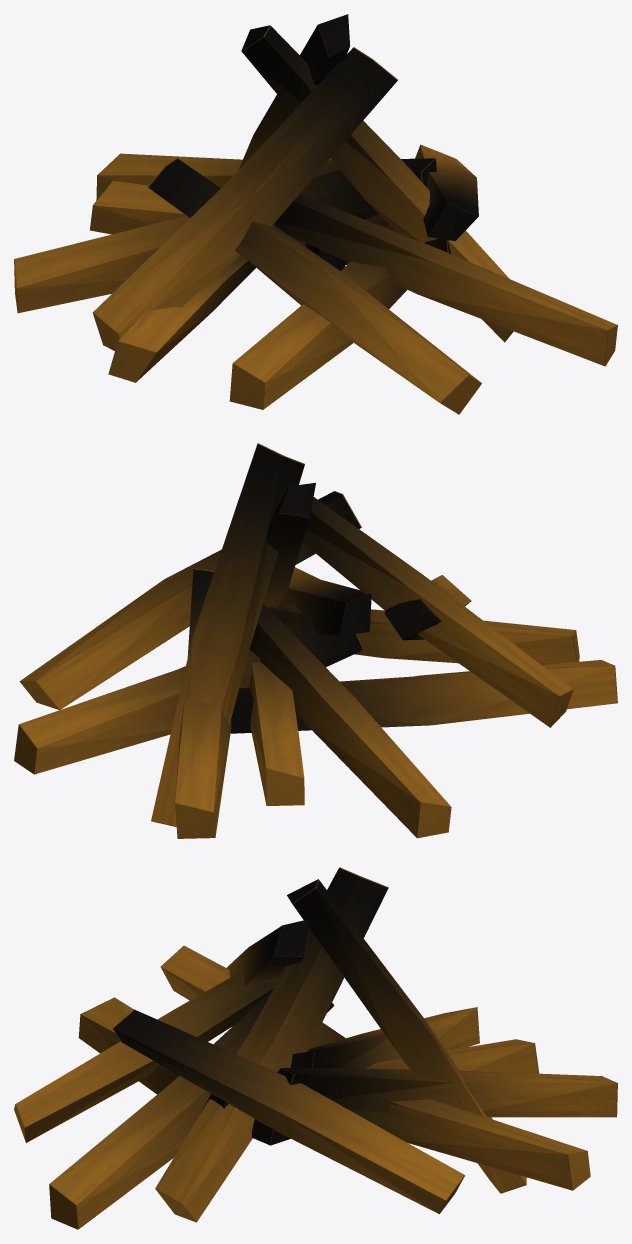
File: camp_fire.obj
3 views of the same model, one above another, from view 1: azimuth 30°, elevation 25°; view 2: azimuth 150°, elevation 25°; view 3: azimuth 270°, elevation 25° (orthographic). The views are drawn at different scales.
Size of the model in its own units: 2.84 by 1.8 by 3.19.
